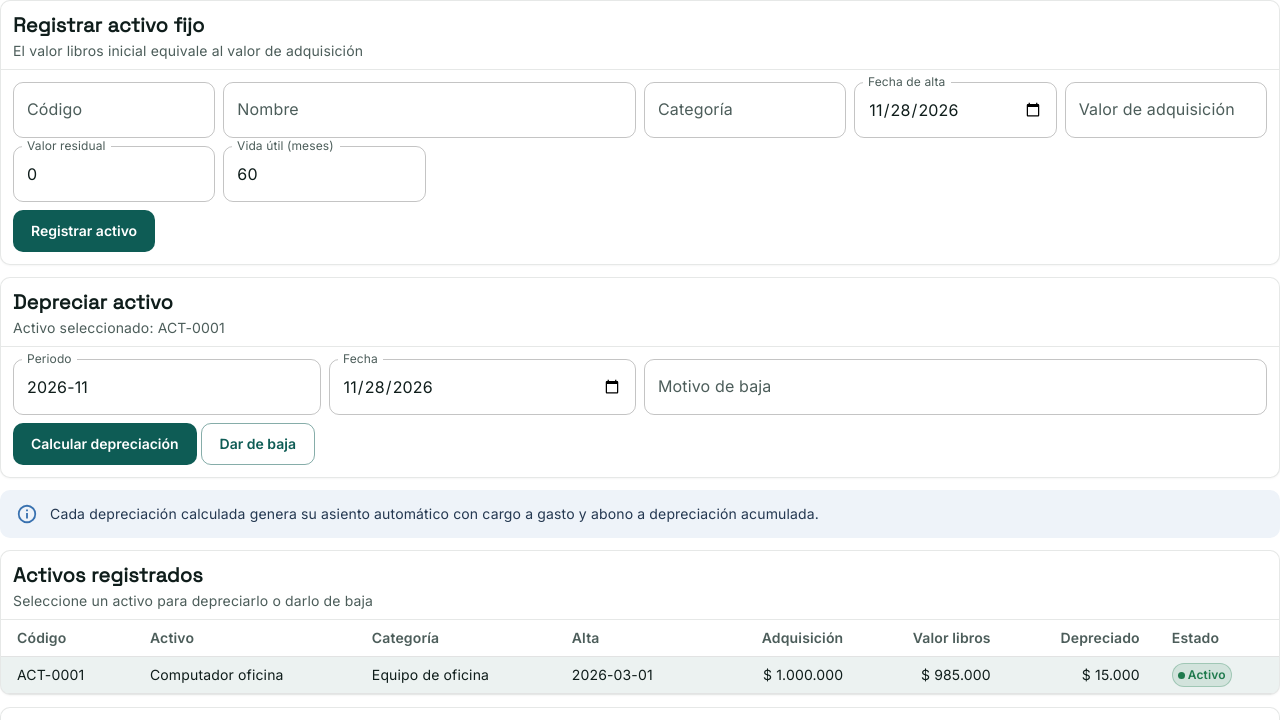
it: ActivosTab › muestra el mensaje del backend al registrar un código duplicado
The width and height of the screenshot is (1280, 720).
Type "ACT-NUEVO" into the field labelled "Código" at {"x": 114, "y": 110}, box [13,82,215,138]
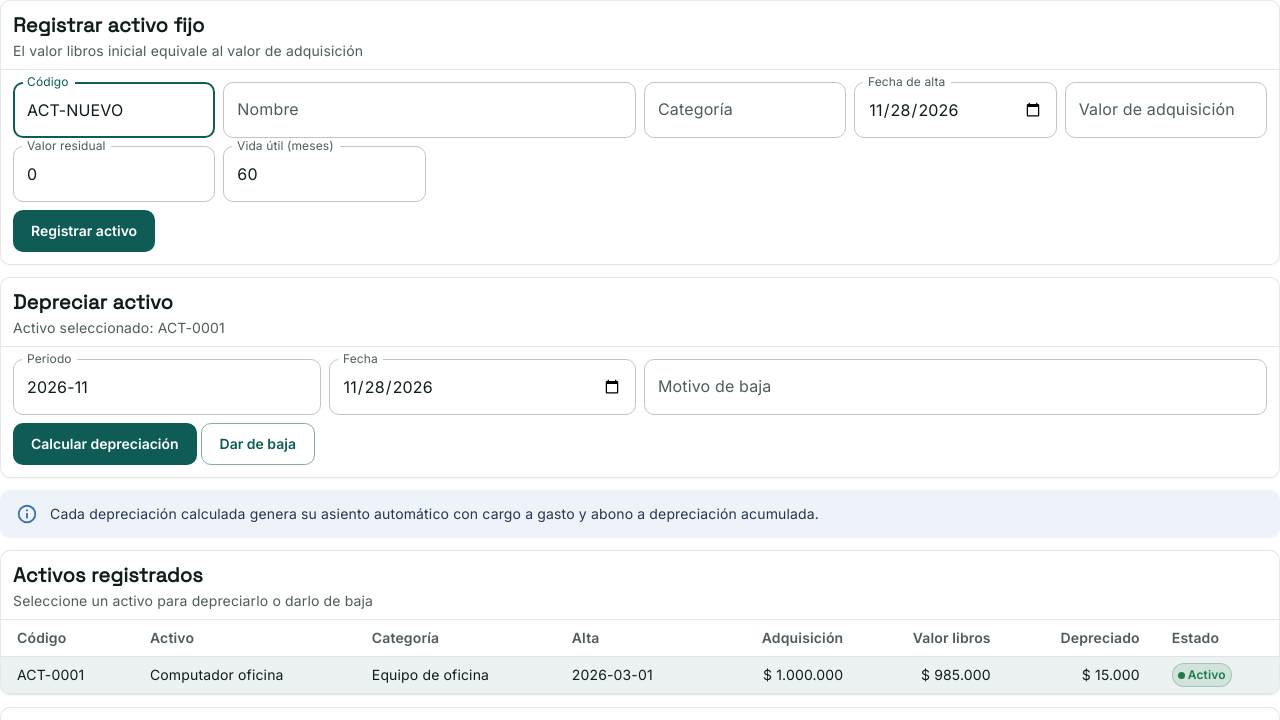
Type "Computador oficina" into the field labelled "Nombre" at {"x": 430, "y": 110}, box [223,82,636,138]
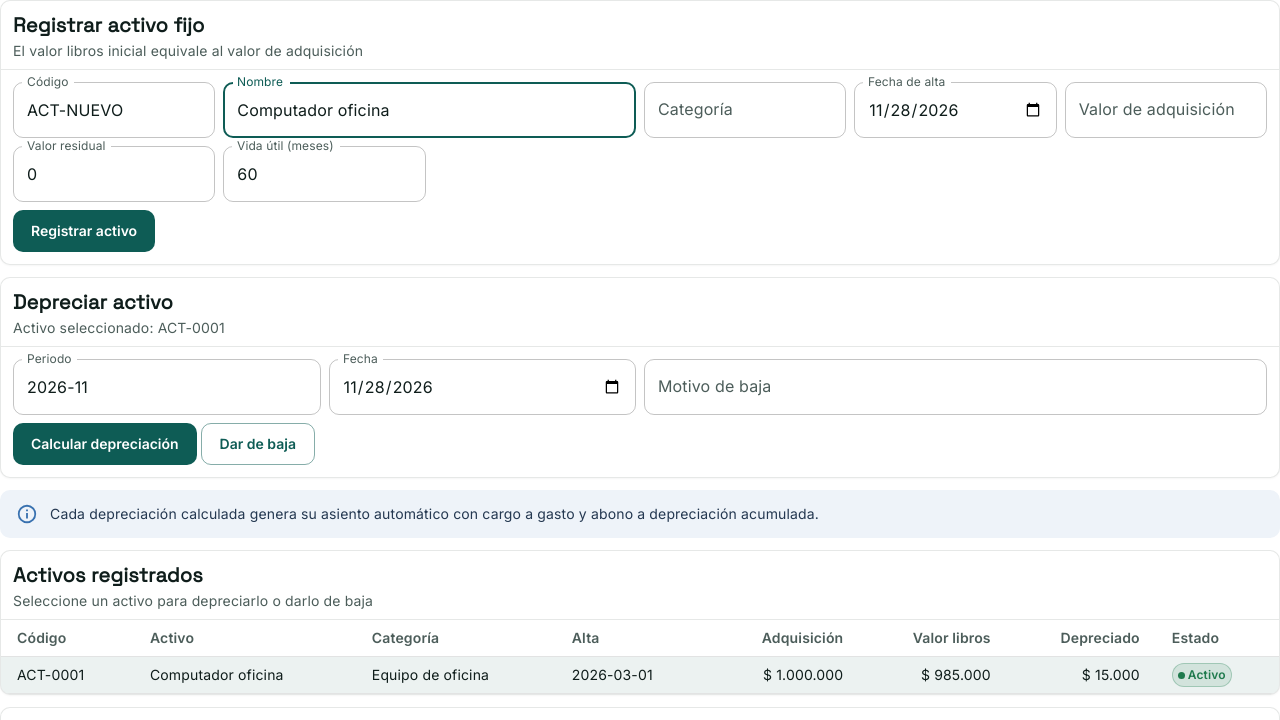
Type "1000" into the number field labelled "Valor de adquisición" at {"x": 1166, "y": 110}, box [1065,82,1267,138]
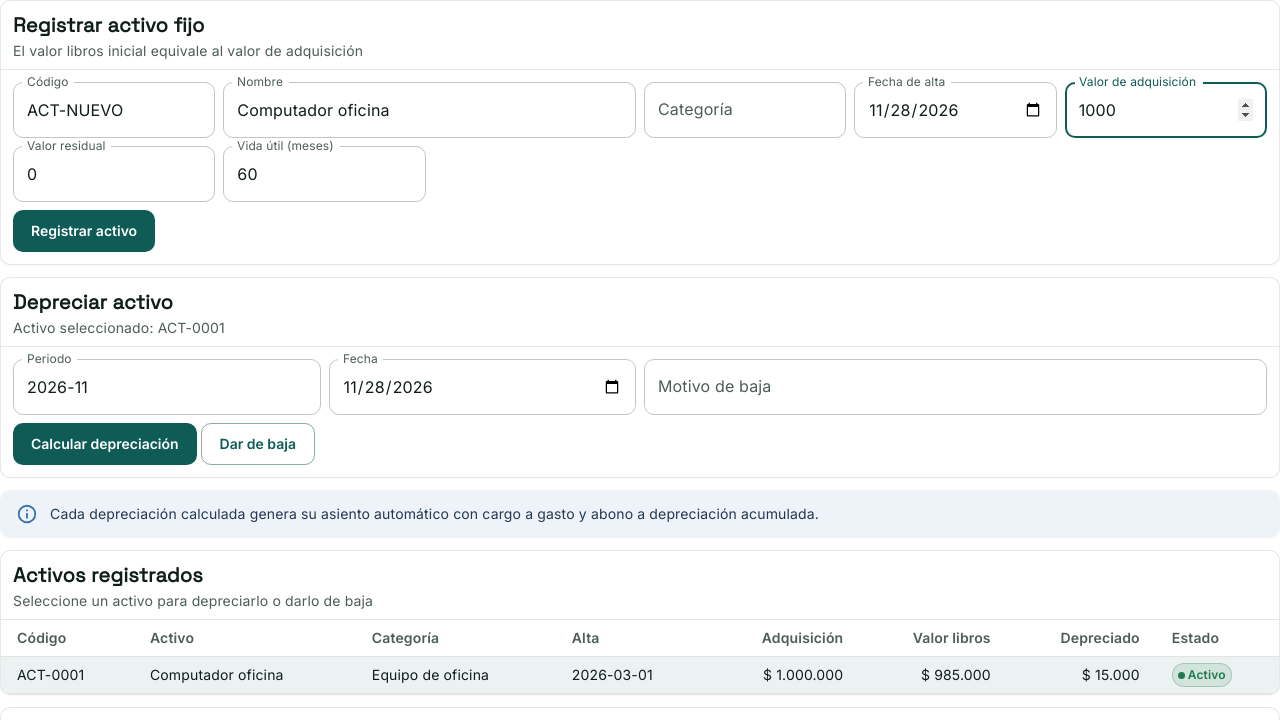
Click the button "Registrar activo" at {"x": 84, "y": 231}, box [13,210,155,252]
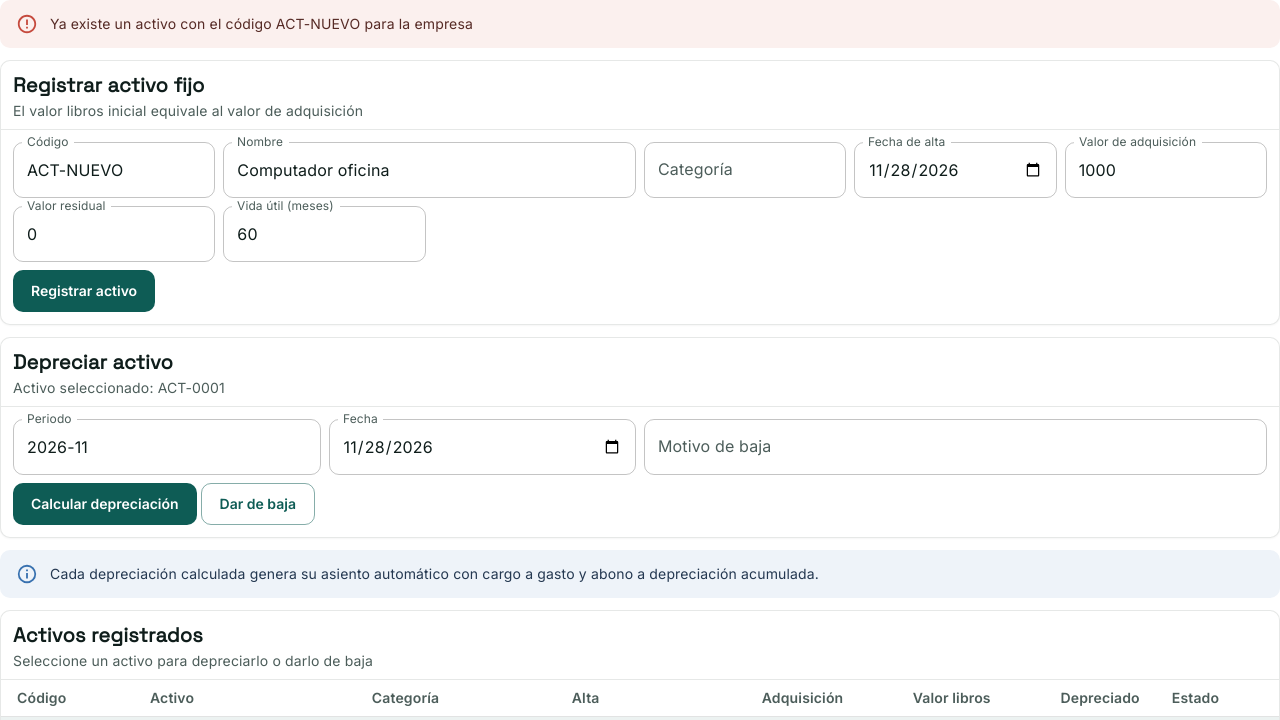
expect the text "Ya existe un activo con el código ACT-NUEVO para la empresa" is shown: met, box [50,15,473,32]
